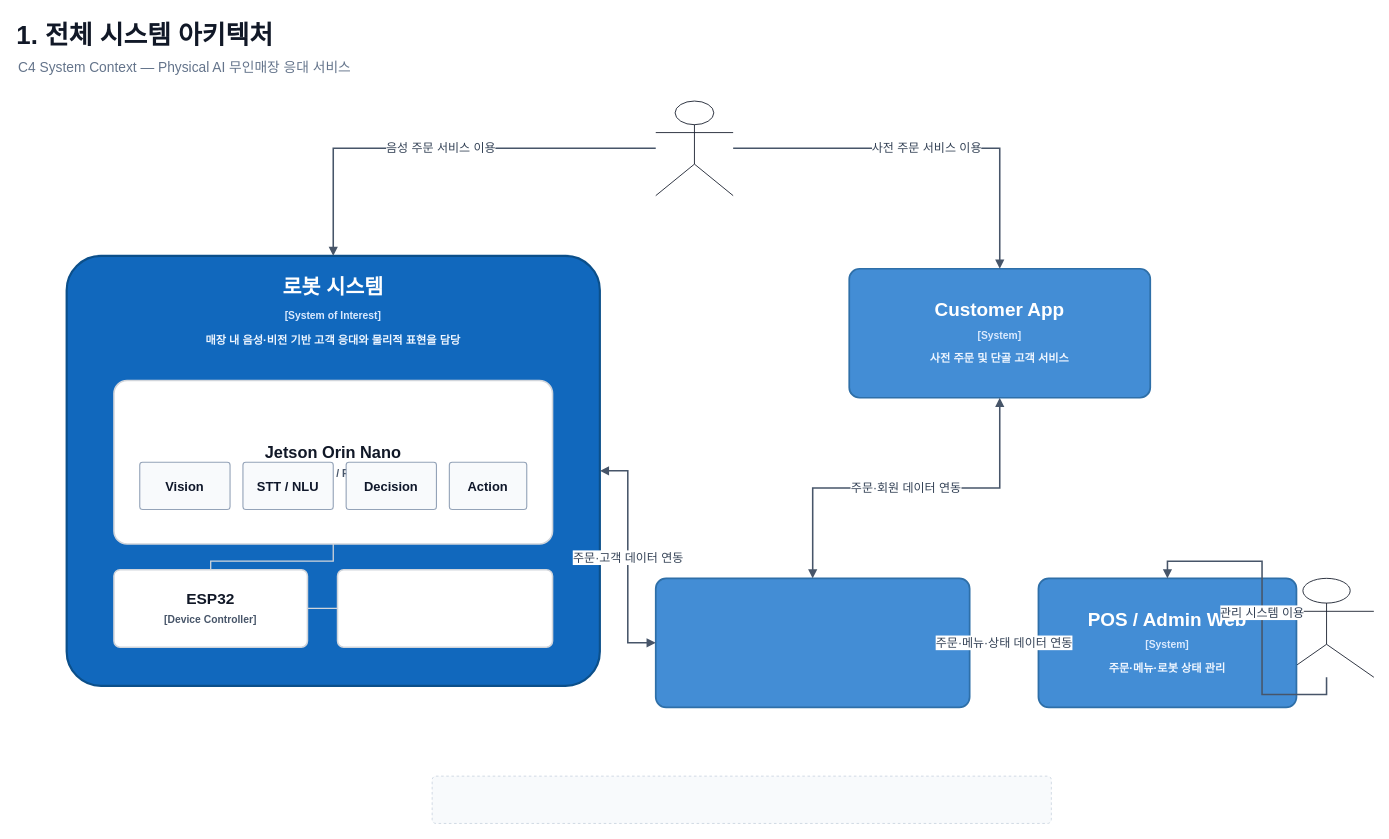
The diagram is 1389 pixels wide and 839 high, and some of its shapes have lost their labels. Each missing label, with the centre of its shape:
Cloud / Firebase [System] 주문·고객·메뉴 데이터 및 서비스 연동: point 812,642
LCD / Servo / Speaker [Robot I/O Devices]: point 444,608
※ C4 System Context 스타일: 화살표는 사용자·시스템 간 이용/연동 관계를 나타내며, 시간적 처리 순서를 의미하지 않음: point 741,799
고객 [Person]: point 694,148
매장 관리자 [Person]: point 1326,627
